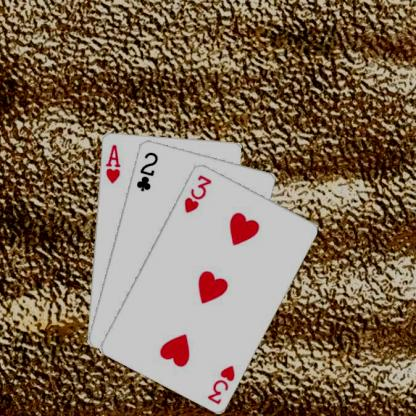2C: (134, 148, 160, 192)
3H: (204, 362, 236, 405), (181, 172, 213, 214)
AH: (102, 142, 121, 184)
